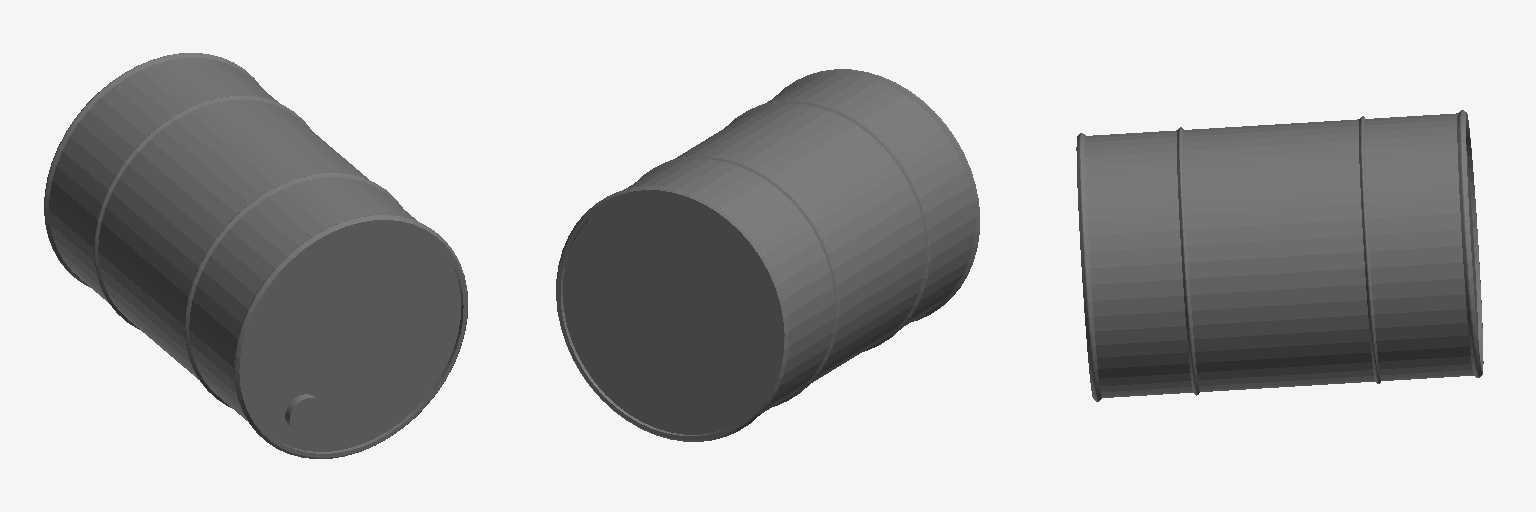
The model's file is barell.obj.
3 views of the same model, side by side, from view 1: azimuth 30°, elevation 25°; view 2: azimuth 150°, elevation 25°; view 3: azimuth 270°, elevation 25° (orthographic).
Parts seen in each view (by area): view 1: Barrel_Mesh; view 2: Barrel_Mesh; view 3: Barrel_Mesh.
Part boxes in pixels (x1,y1,x2,y2): Barrel_Mesh: (44, 53, 467, 458); Barrel_Mesh: (556, 69, 979, 441); Barrel_Mesh: (1076, 110, 1483, 401).
Size of the model in its own units: 0.6147 by 0.6711 by 0.928.